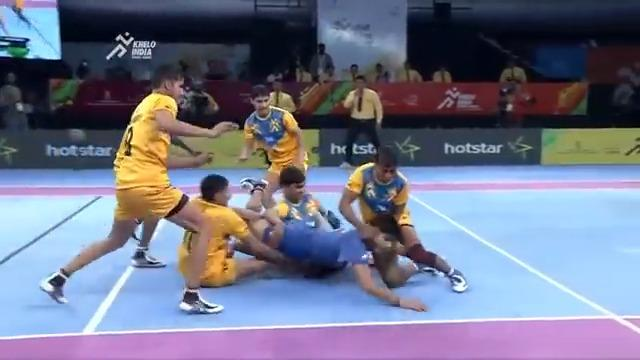Player: (38, 63, 238, 314), (337, 146, 468, 293), (177, 172, 287, 287), (236, 83, 309, 210), (338, 74, 384, 169)
Raider: (231, 200, 427, 312)
referee: (127, 65, 220, 268), (251, 78, 297, 164), (170, 76, 219, 156), (495, 53, 530, 126), (308, 42, 334, 83)
